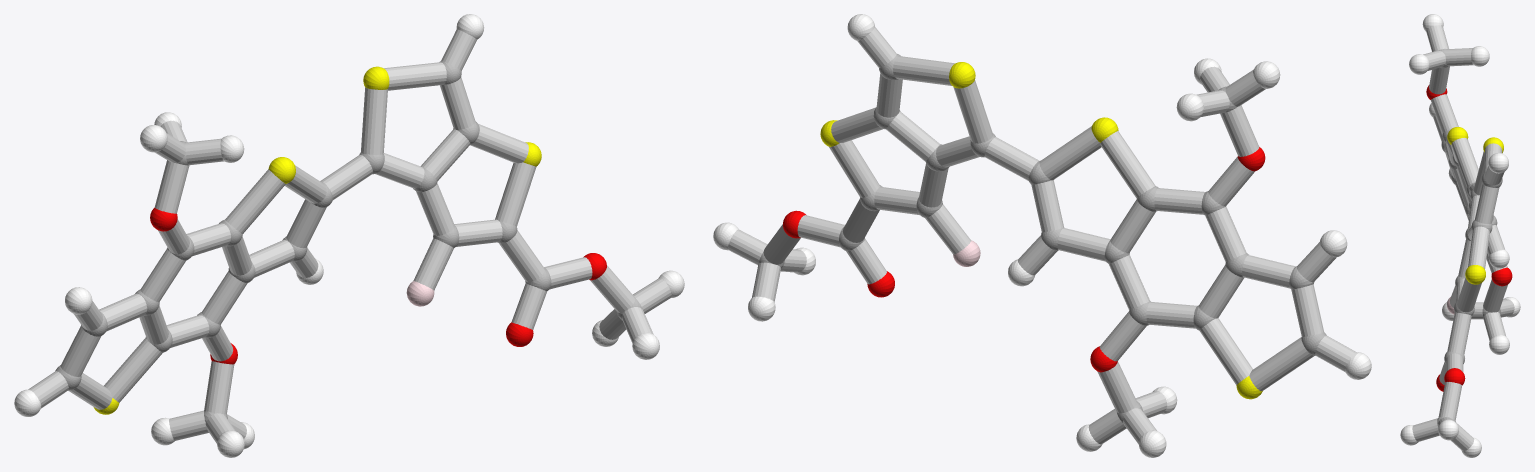
The model's file is color.glb.
3 views of the same model, side by side, from view 1: azimuth 30°, elevation 25°; view 2: azimuth 150°, elevation 25°; view 3: azimuth 270°, elevation 25° (orthographic). The views are drawn at different scales.
Visible parts, largest first — view 1: grp15205, grp8689, grp1, grp13395, grp7241; view 2: grp15205, grp8689, grp1, grp7241, grp13395; view 3: grp15205, grp8689, grp1, grp13395, grp7241.
Part boxes in pixels (left/top/right/bottom): grp15205: left=28, top=29, right=671, bottom=443; grp8689: left=14, top=14, right=684, bottom=457; grp1: left=55, top=61, right=642, bottom=424; grp13395: left=150, top=207, right=606, bottom=364; grp7241: left=93, top=66, right=541, bottom=414; grp15205: left=728, top=27, right=1356, bottom=444; grp8689: left=713, top=14, right=1371, bottom=457; grp1: left=758, top=54, right=1326, bottom=422; grp7241: left=820, top=62, right=1262, bottom=399; grp13395: left=783, top=147, right=1265, bottom=372; grp15205: left=1412, top=25, right=1514, bottom=451; grp8689: left=1400, top=14, right=1520, bottom=457; grp1: left=1437, top=48, right=1502, bottom=424; grp13395: left=1426, top=85, right=1512, bottom=391; grp7241: left=1447, top=127, right=1503, bottom=284.
Size of the model in its own units: 16.49 by 9.23 by 3.46.
